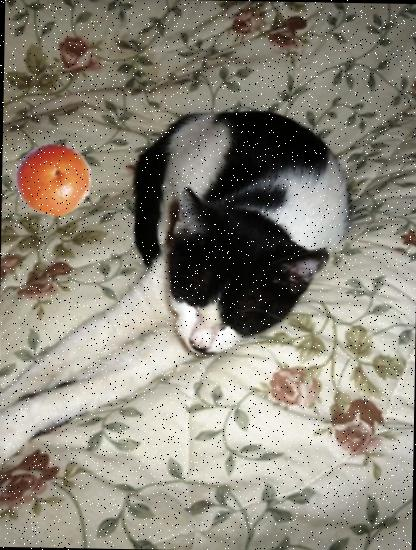Tangelo: (14, 140, 92, 218)
